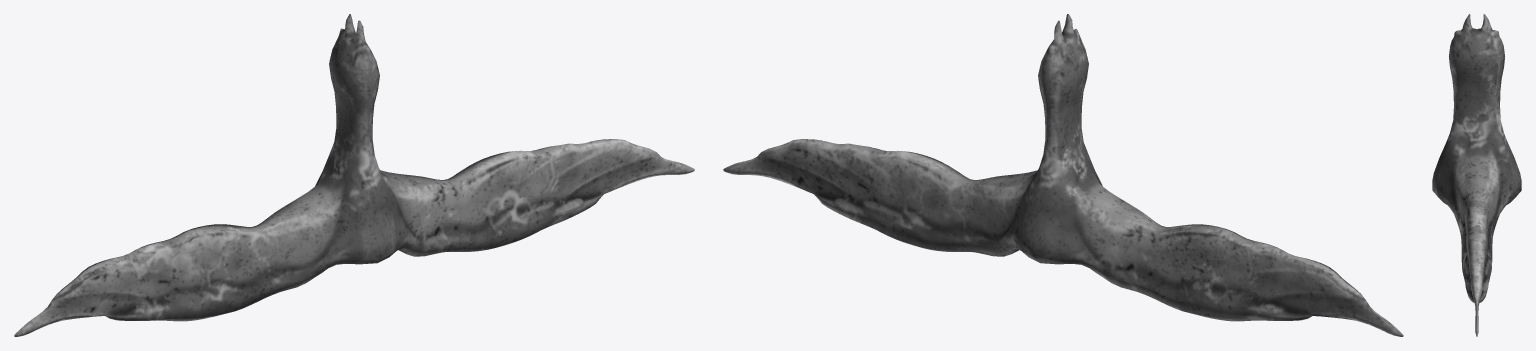
File: wm_swan_knight_sword_b_guard.fbx
3 views of the same model, side by side, from view 1: azimuth 30°, elevation 25°; view 2: azimuth 150°, elevation 25°; view 3: azimuth 270°, elevation 25° (orthographic). The views are drawn at different scales.
Parts seen in each view (by area): view 1: wm_swan_knight_sword_b_guard; view 2: wm_swan_knight_sword_b_guard; view 3: wm_swan_knight_sword_b_guard.
Part boxes in pixels (box(x1,y1,x2,y2)): wm_swan_knight_sword_b_guard: box(14, 14, 694, 336); wm_swan_knight_sword_b_guard: box(723, 14, 1403, 336); wm_swan_knight_sword_b_guard: box(1432, 14, 1521, 336).
Size of the model in its own units: 0.2591 by 0.0369 by 0.0964.
1 material, 1 textured.
